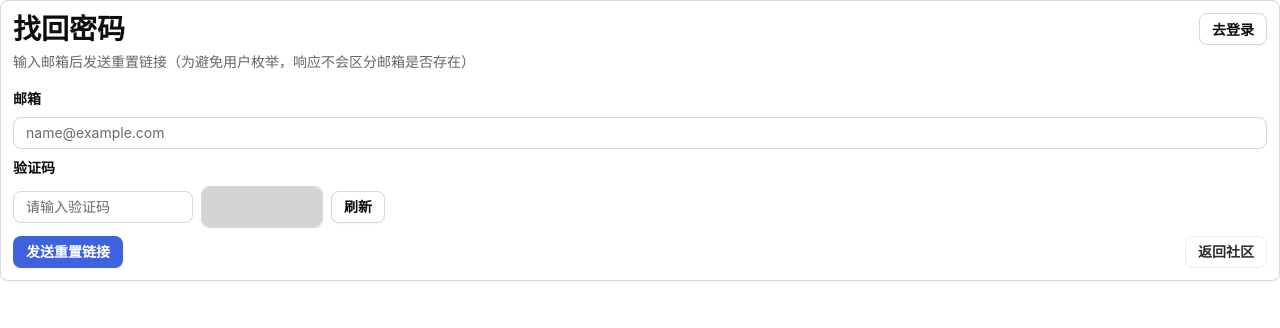
Test: PasswordResetView › refreshes captcha when password reset request receives backend captcha error
This screenshot has width=1280, height=328.
Type "alice@example.com" into the field labelled "邮箱" at (640, 133), box x1=13 y1=117 x2=1267 y2=149
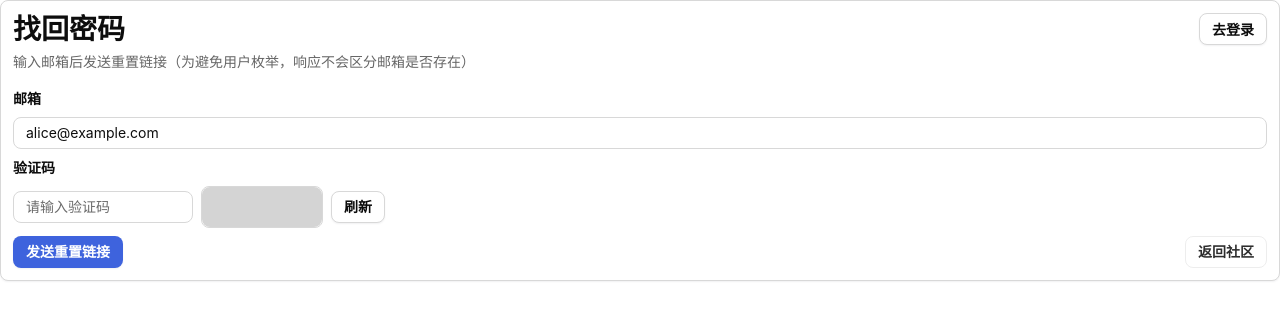
Type "abcd" into the field labelled "验证码" at (103, 207), box x1=13 y1=191 x2=193 y2=223
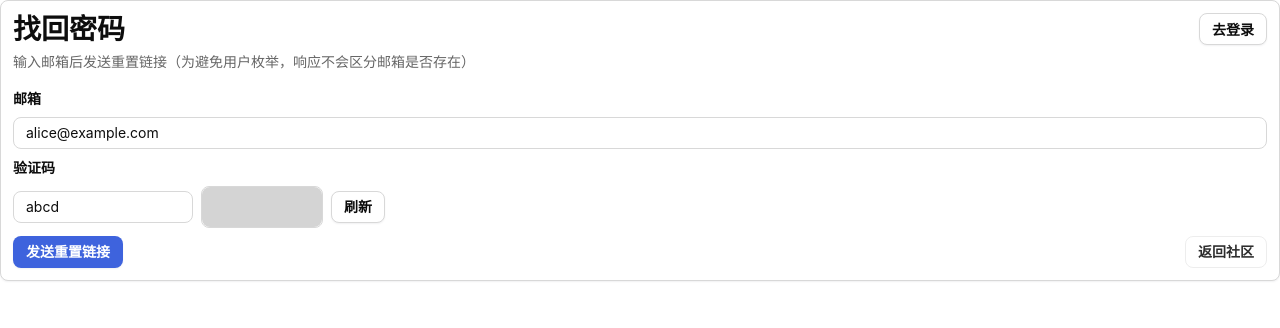
Click the button "发送重置链接" at (68, 252), box x1=13 y1=236 x2=123 y2=268
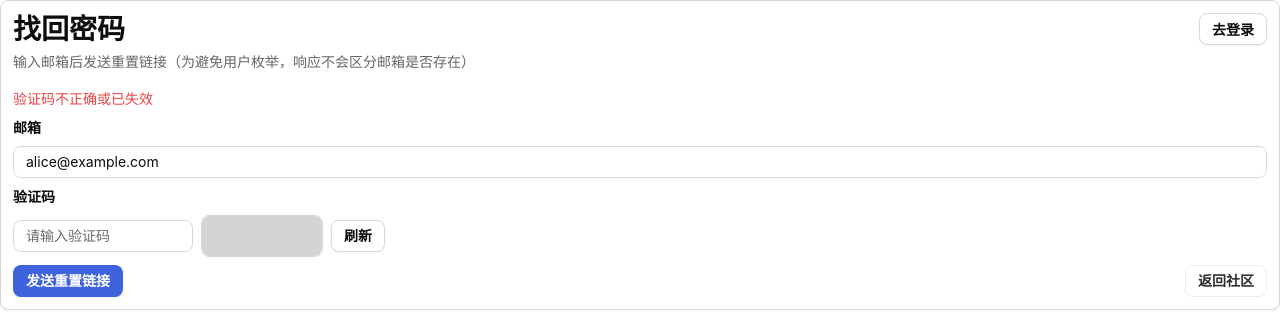
Check: the text "验证码不正确或已失效" is shown, box x1=13 y1=90 x2=153 y2=107
